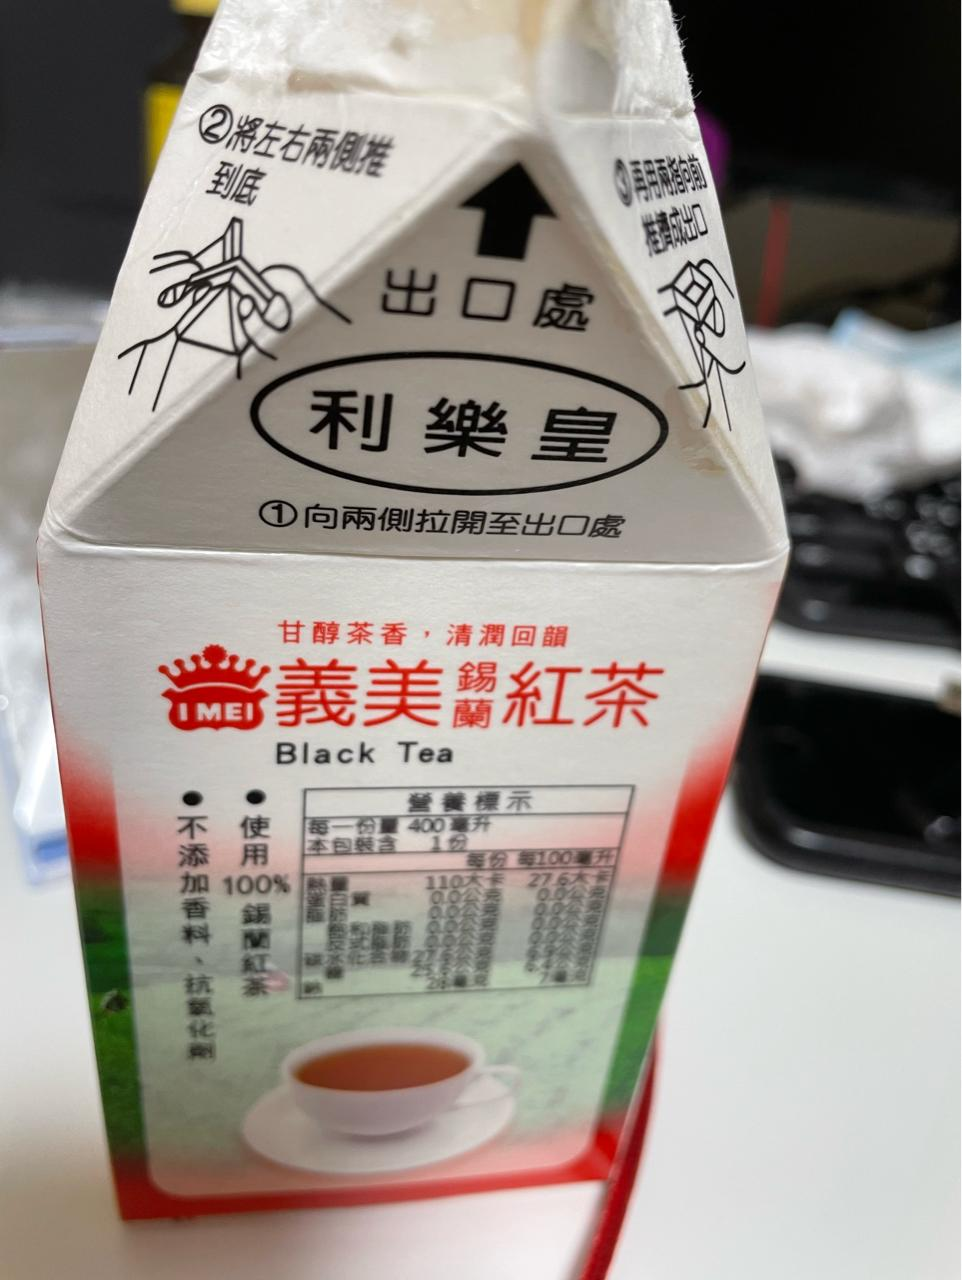cardboard: (39, 0, 788, 1279)
plastic: (39, 0, 788, 1279)
